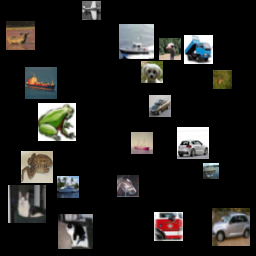airplane: (82, 1, 101, 20)
automobile: (212, 208, 250, 246), (177, 127, 209, 159), (149, 95, 171, 117)
bird: (159, 38, 181, 60)
cat: (8, 185, 46, 223), (58, 214, 93, 249)
deer: (6, 21, 35, 50), (213, 70, 232, 89)
dog: (141, 61, 163, 83)
frog: (38, 103, 76, 141), (21, 151, 53, 183)
ship: (119, 24, 154, 59), (25, 67, 57, 99), (57, 176, 79, 198), (131, 132, 153, 154), (203, 163, 219, 179)
